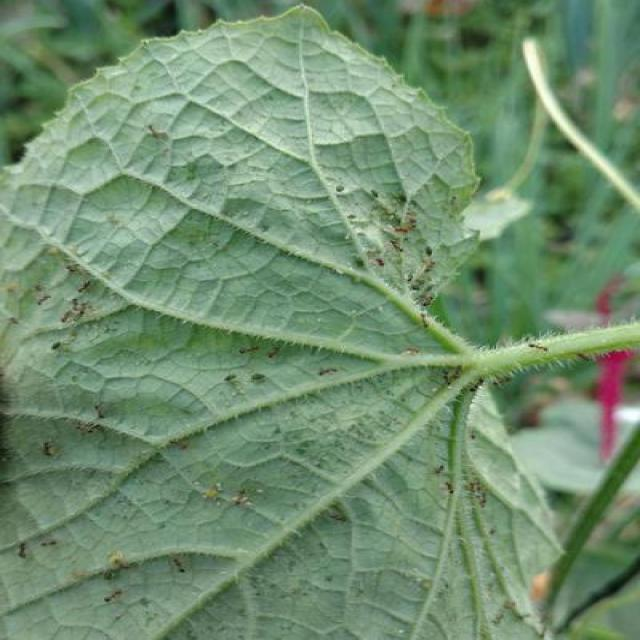Aphids: (340, 168, 478, 321), (171, 438, 302, 536), (28, 250, 116, 384)
